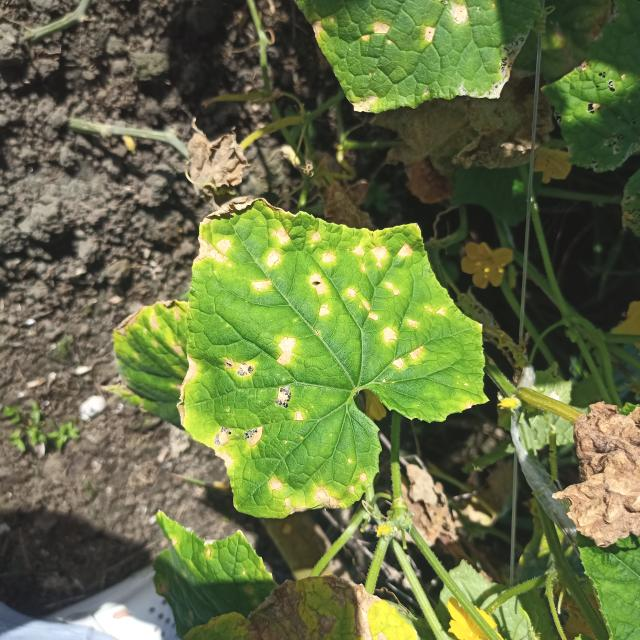disease_cucumber: (176, 199, 449, 520)
